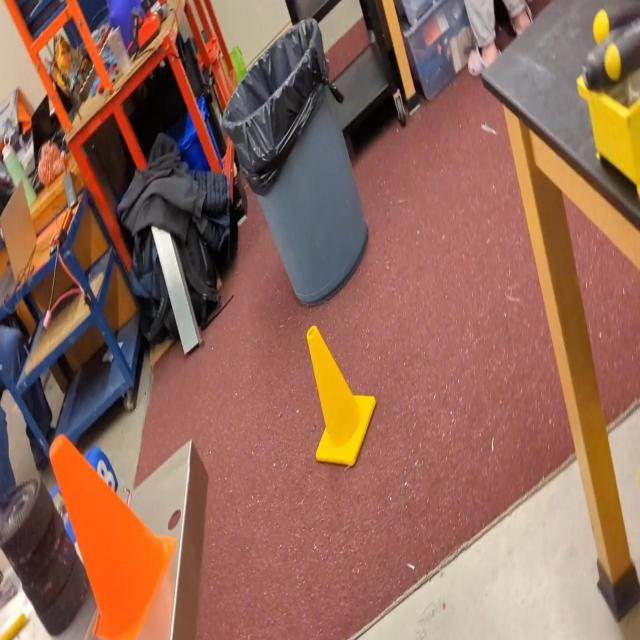frc_cone: (303, 326, 378, 469)
